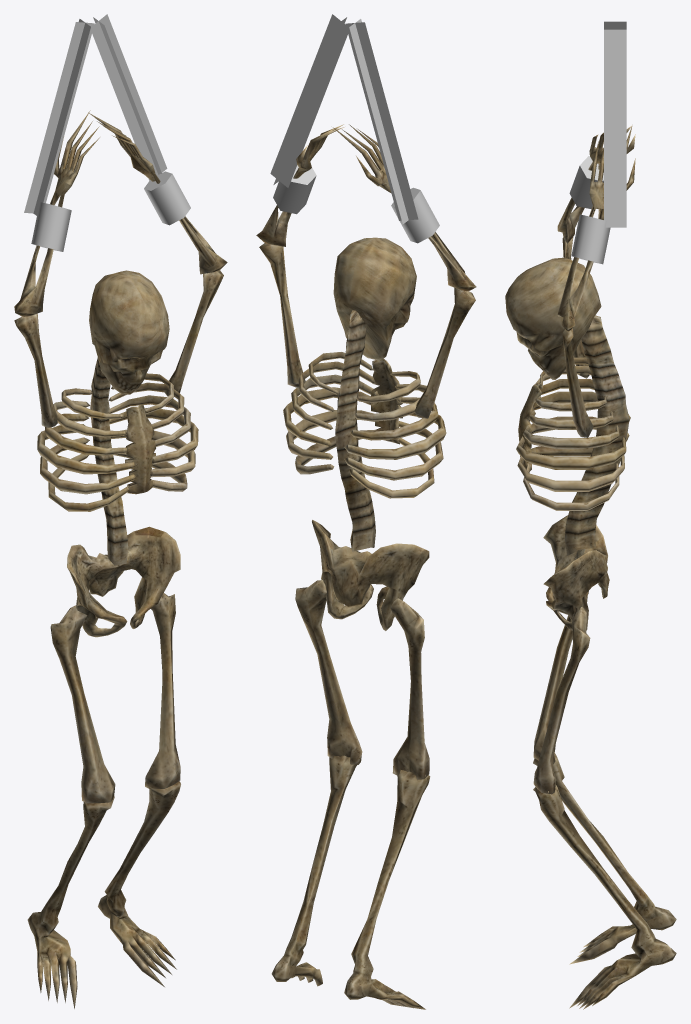
File: Prop5Update.FBX
The picture shows the model from 3 angles, left to right: view 1: azimuth 30°, elevation 25°; view 2: azimuth 150°, elevation 25°; view 3: azimuth 270°, elevation 25°; orthographic projection. The views are drawn at different scales.
Visible parts, largest first — view 1: Plane02; view 2: Plane02; view 3: Plane02.
Boxes of the visible parts, <box> form: Plane02: <box>14,14,227,1008</box>; Plane02: <box>256,14,476,1009</box>; Plane02: <box>505,21,676,1009</box>.
Bounding box in the file's own units: 7.84 × 34.03 × 5.49.
